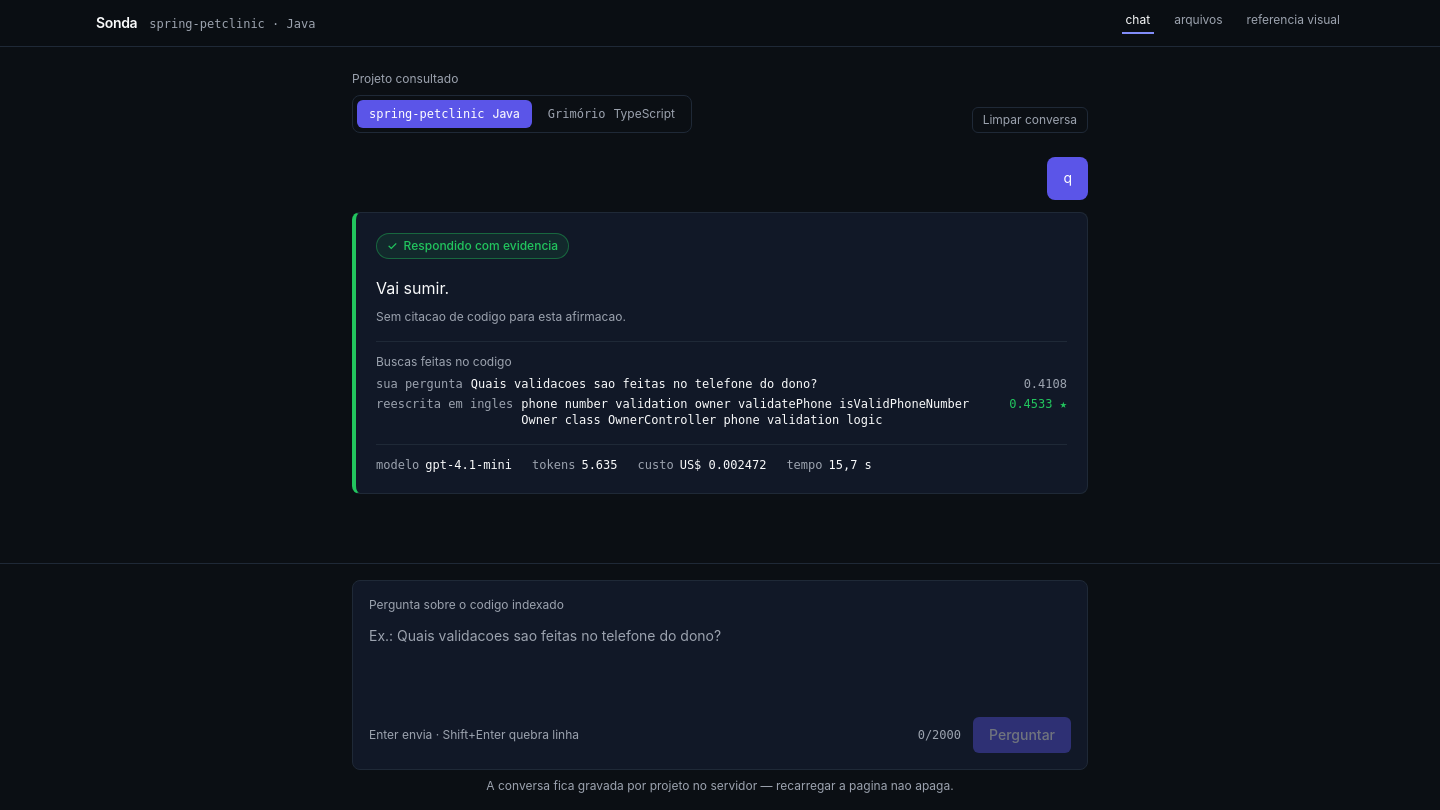
Test: limpar conversa › pede confirmacao antes de apagar
Expected: the text "Vai sumir." is shown, [376, 278, 449, 298]
What coordinates should you click on to do the following:
click the button "Limpar conversa"
I would click on:
 (1030, 120)
Its box is [972, 107, 1088, 133].
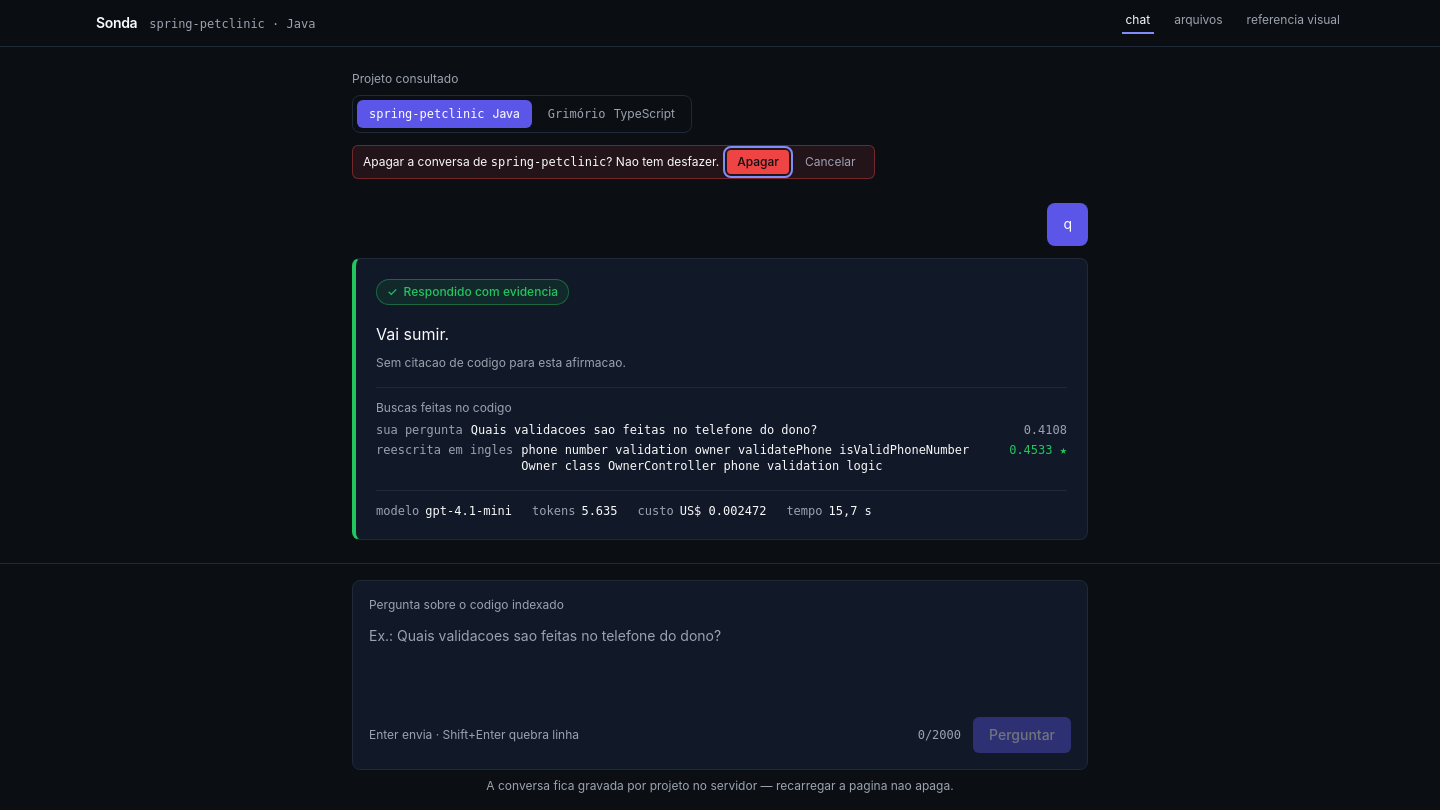
Now the element named "Confirmar limpeza" shows "Nao tem desfazer", box [606, 154, 719, 169]
Now the element named "Confirmar limpeza" shows "spring-petclinic", box [491, 155, 606, 169]
